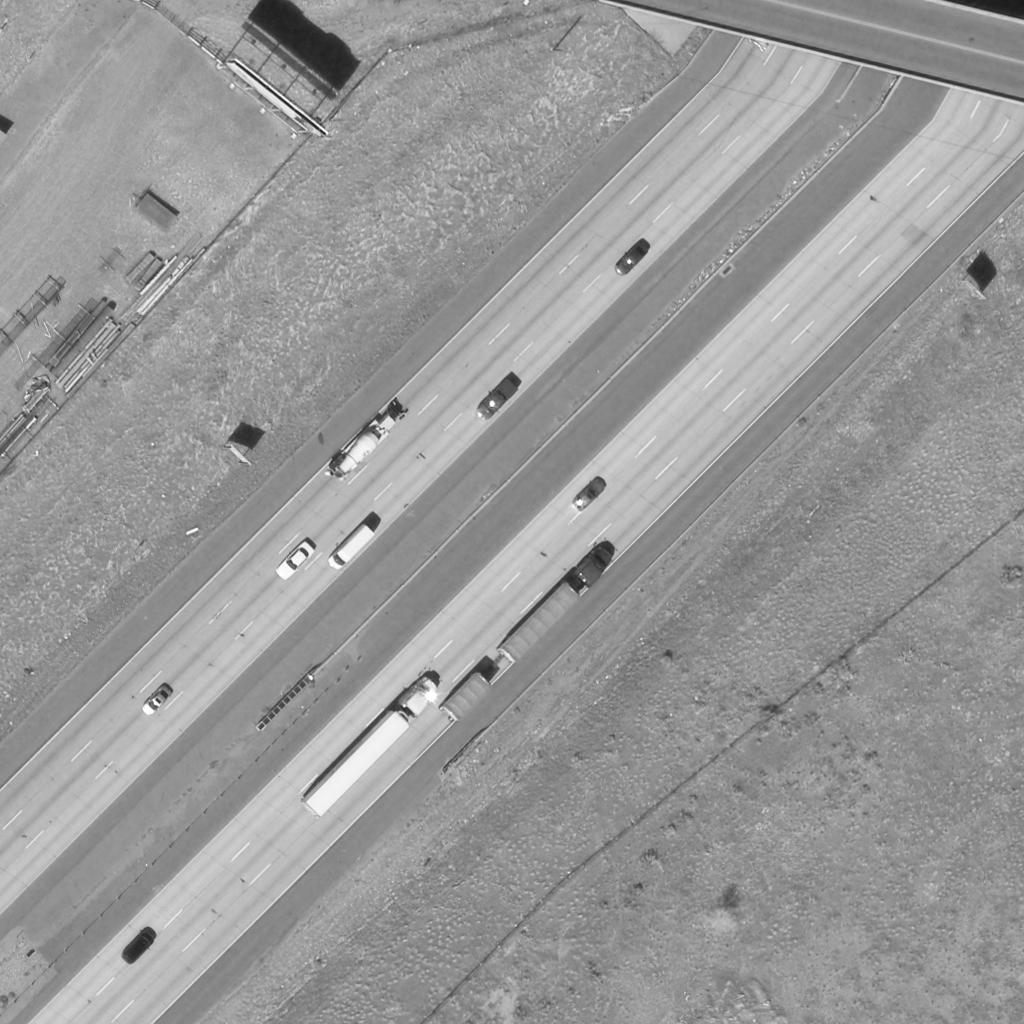vehicle: (301, 675, 441, 817), (500, 545, 614, 665), (329, 402, 407, 480), (329, 526, 373, 574), (272, 539, 318, 583), (476, 377, 518, 421), (121, 926, 159, 966), (572, 478, 608, 514), (616, 238, 650, 276), (139, 683, 175, 717)
